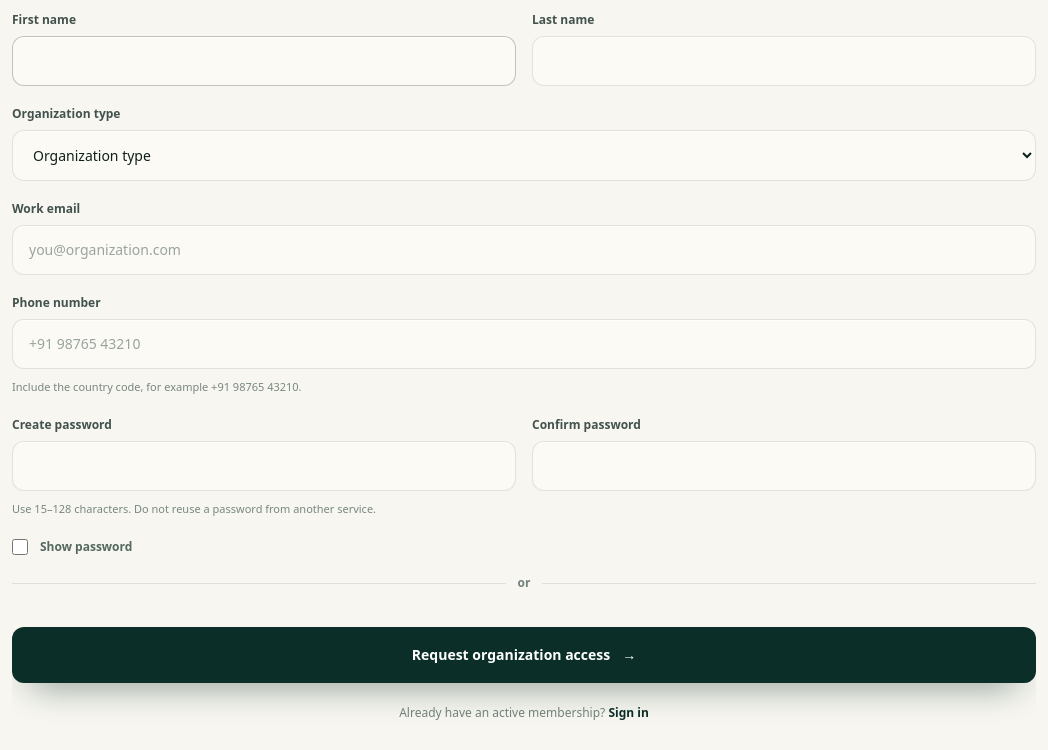
Test: RegistrationForm interactions › hides the organization code field until a healthcare type is chosen
Check: the field labelled "Organization code / Invitation code" is not shown
Select "Hospital" in the dropdown labelled "Organization type" at {"x": 524, "y": 156}, box [12,130,1036,181]
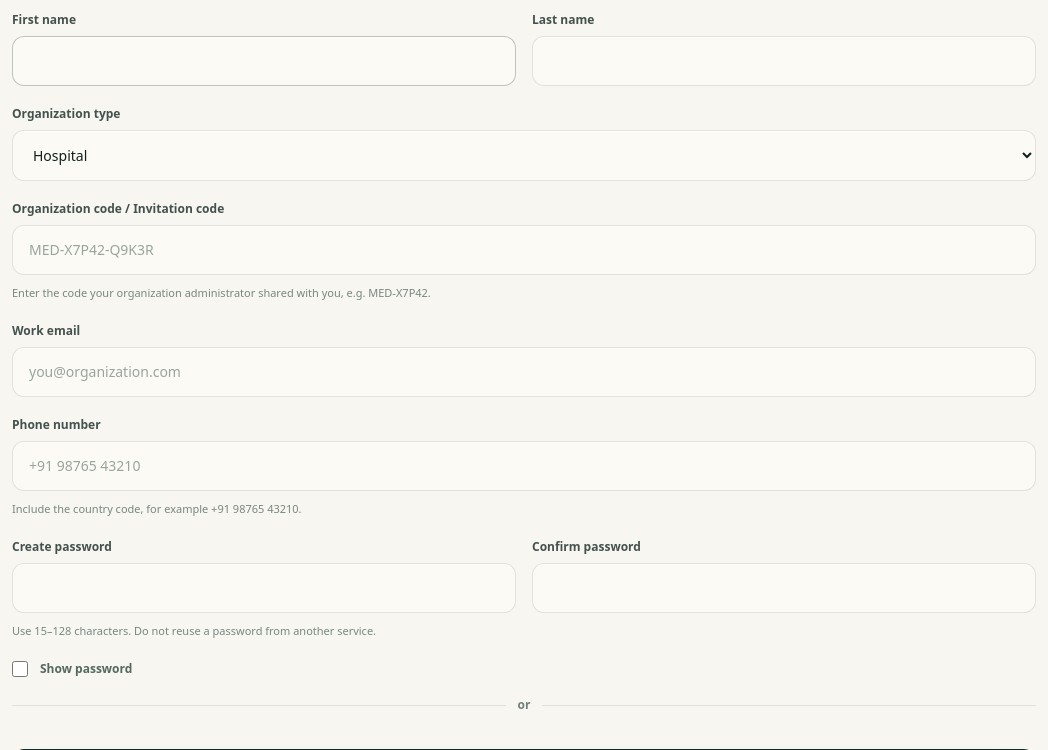
Check: the field labelled "Organization code / Invitation code" is shown, box [12,225,1036,275]
